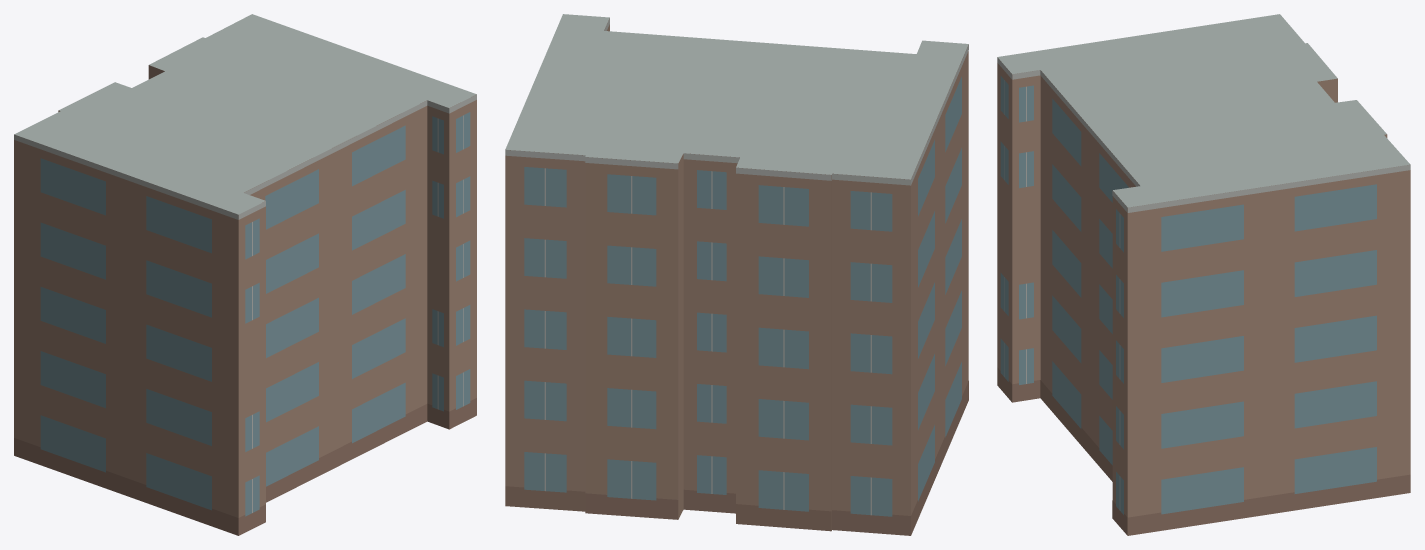
File: survey-upis-32702130.glb
3 renders of one model, left to right at view 1: azimuth 30°, elevation 25°; view 2: azimuth 150°, elevation 25°; view 3: azimuth 270°, elevation 25°, orthographic. The views are drawn at different scales.
Parts seen in each view (by area): view 1: survey-upis-32702130.tmp; view 2: survey-upis-32702130.tmp; view 3: survey-upis-32702130.tmp.
Boxes of the visible parts, x1=… form: survey-upis-32702130.tmp: x1=14, y1=14, x2=476, y2=535; survey-upis-32702130.tmp: x1=505, y1=14, x2=968, y2=535; survey-upis-32702130.tmp: x1=997, y1=14, x2=1410, y2=535.
Size of the model in its own units: 18.41 by 14.55 by 16.61.
